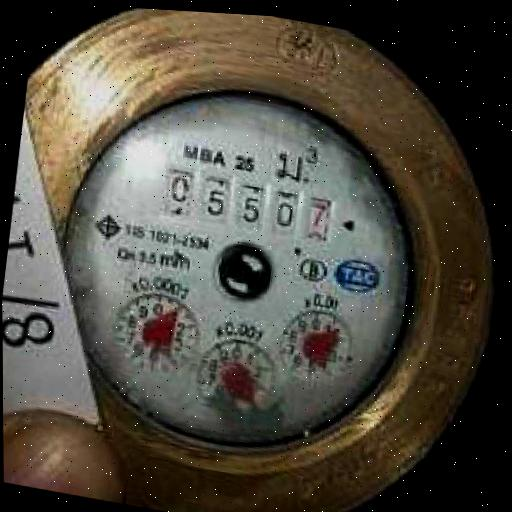0: (165, 170, 193, 217), (270, 190, 296, 234)
5: (234, 184, 265, 229), (199, 178, 228, 223)
7: (303, 197, 330, 242)
border_water_meter_number: (158, 164, 335, 247)
